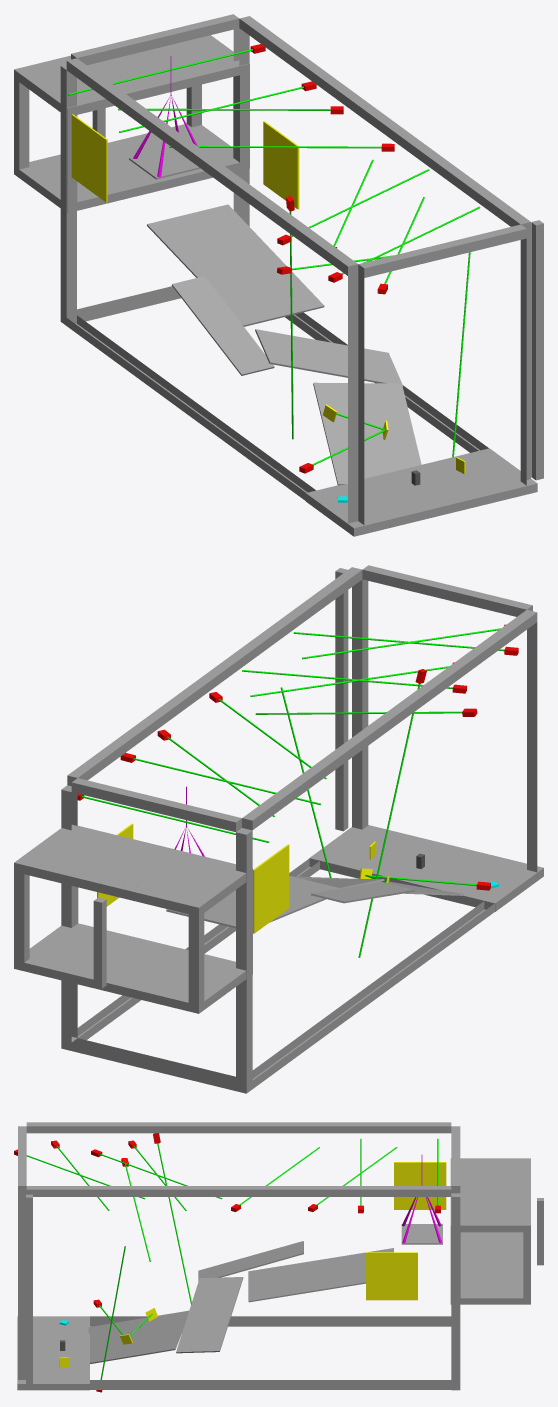
Rendered from Copyman_Stage7.fbx.
The picture shows the model from 3 angles, top to bottom: view 1: azimuth 30°, elevation 25°; view 2: azimuth 150°, elevation 25°; view 3: azimuth 270°, elevation 25°; orthographic projection. The views are drawn at different scales.
Parts seen in each view (by area): view 1: Stage, Goal, Floor2, Start, Floor, Floor1, Floor4, pCube11, Galass5, Galass4, Floor3; view 2: Stage, Goal, Start, pCube11, Galass5, Floor2, pCube12, Floor4; view 3: Stage, Goal, Start, Floor2, Floor, Floor1, Galass4, Galass5, Floor4, pCube11, Floor3, pCube12.
Part boxes in pixels (bbox=[...]): Stage: bbox=[60, 14, 530, 524]; Goal: bbox=[14, 35, 249, 213]; Floor2: bbox=[147, 204, 324, 326]; Start: bbox=[306, 448, 537, 536]; Floor: bbox=[313, 382, 421, 485]; Floor1: bbox=[255, 329, 402, 386]; Floor4: bbox=[171, 276, 274, 375]; pCube11: bbox=[531, 220, 543, 480]; Galass5: bbox=[71, 114, 107, 202]; Galass4: bbox=[263, 121, 299, 209]; Floor3: bbox=[129, 148, 200, 179]; Stage: bbox=[61, 565, 537, 1093]; Goal: bbox=[14, 824, 252, 1013]; Start: bbox=[309, 825, 543, 911]; pCube11: bbox=[335, 568, 348, 831]; Galass5: bbox=[253, 844, 289, 933]; Floor2: bbox=[166, 876, 340, 928]; pCube12: bbox=[93, 897, 106, 988]; Floor4: bbox=[311, 881, 414, 903]; Stage: bbox=[18, 1122, 460, 1390]; Goal: bbox=[450, 1158, 530, 1304]; Start: bbox=[17, 1316, 89, 1390]; Floor2: bbox=[248, 1248, 393, 1302]; Floor: bbox=[88, 1310, 188, 1363]; Floor1: bbox=[176, 1277, 243, 1353]; Galass4: bbox=[366, 1252, 417, 1300]; Galass5: bbox=[394, 1162, 446, 1209]; Floor4: bbox=[198, 1241, 303, 1281]; pCube11: bbox=[26, 1194, 32, 1389]; Floor3: bbox=[401, 1224, 442, 1244]; pCube12: bbox=[537, 1198, 543, 1265].
Bounding box in the file's own units: 15.04 × 19.97 × 44.94.
